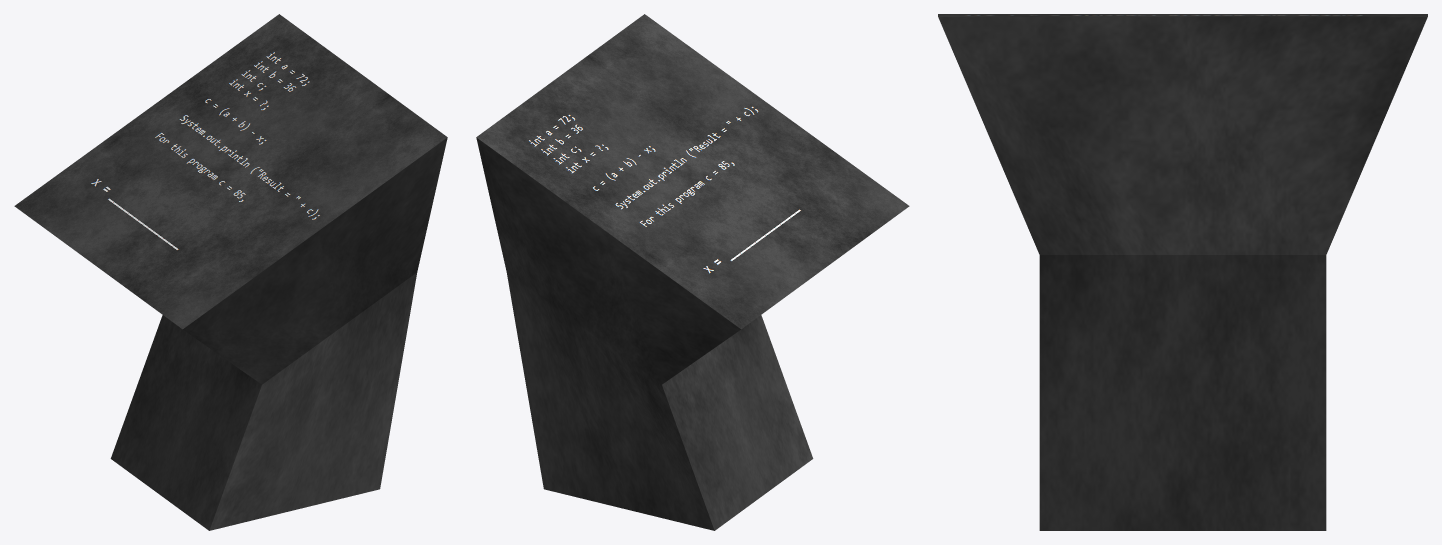
The model's file is plinth.fbx.
3 views of the same model, side by side, from view 1: azimuth 30°, elevation 25°; view 2: azimuth 150°, elevation 25°; view 3: azimuth 270°, elevation 25° (orthographic). The views are drawn at different scales.
Visible parts, largest first — view 1: Cube; view 2: Cube; view 3: Cube.
Boxes of the visible parts, box(x1,y1,x2,y2) form: Cube: box(14, 14, 447, 530); Cube: box(476, 14, 909, 530); Cube: box(938, 14, 1427, 530).
Size of the model in its own units: 185 by 242 by 200.
